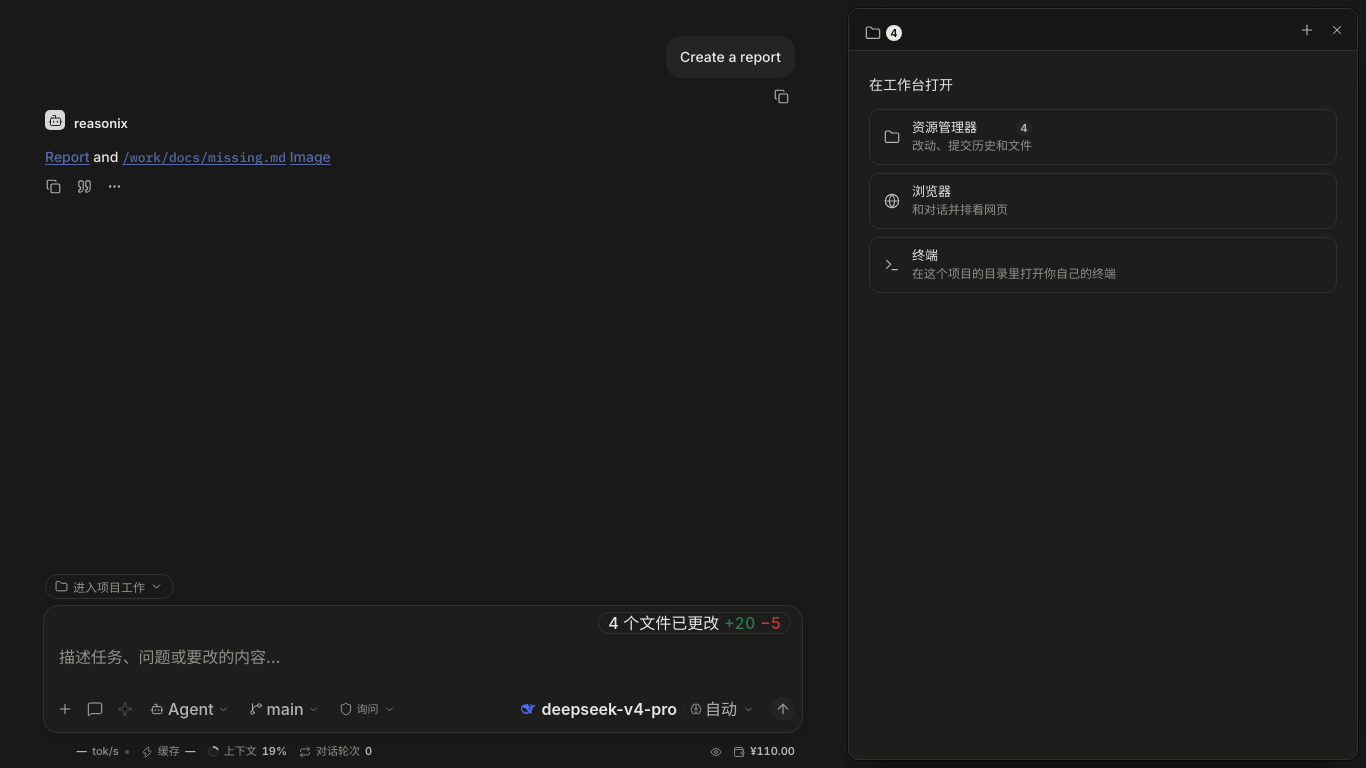
it: keeps remote paths out of the local file manager
Right-click the link "Report" at coordinates (67, 157), box [45,148,90,165]
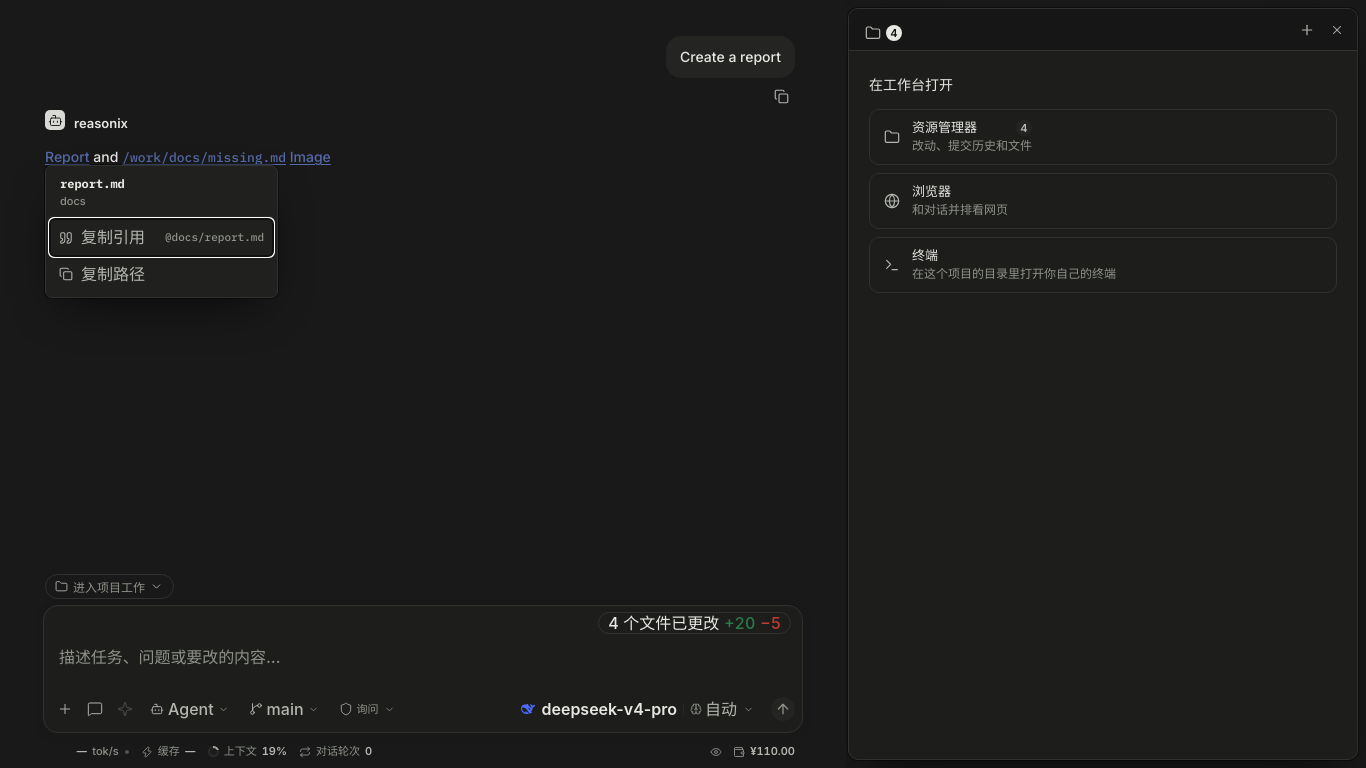
Expected: the menu item "复制路径" is shown, [50,256,273,293]
